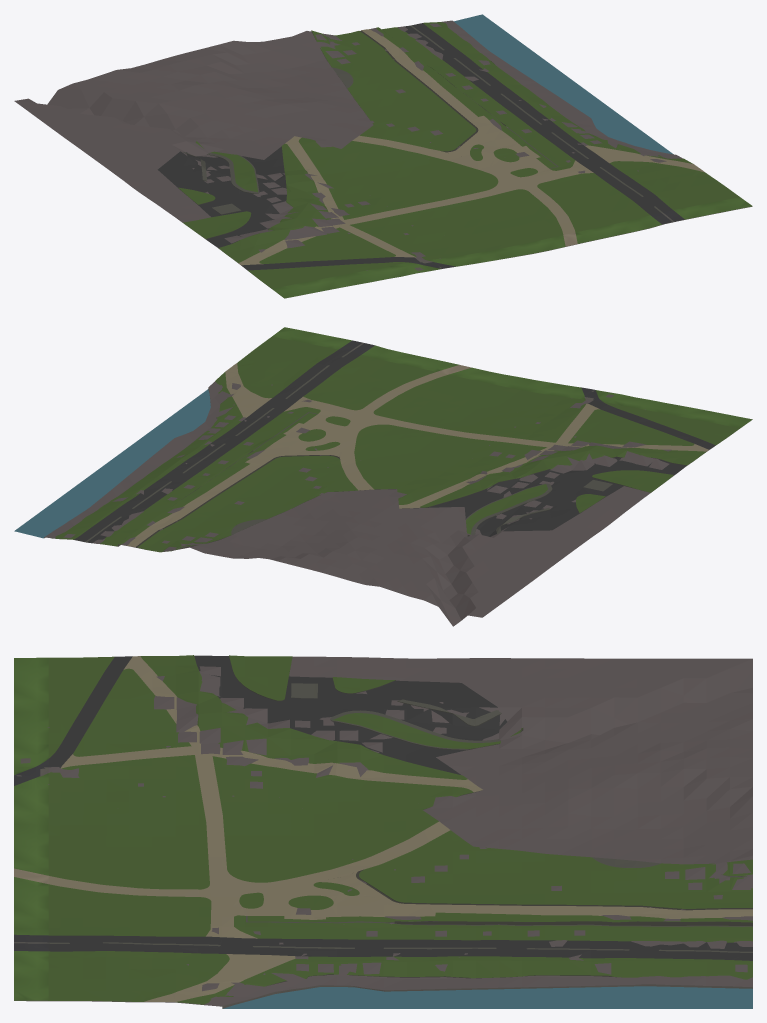
3 renders of one model, top to bottom at view 1: azimuth 30°, elevation 25°; view 2: azimuth 150°, elevation 25°; view 3: azimuth 270°, elevation 25°, orthographic. The views are drawn at different scales.
Parts seen in each view (by area): view 1: c_m10_m10; view 2: c_m10_m10; view 3: c_m10_m10, append:c_m10_m10.
Part boxes in pixels (x1=…): c_m10_m10: x1=14, y1=14, x2=752, y2=298; c_m10_m10: x1=14, y1=327, x2=752, y2=626; c_m10_m10: x1=14, y1=655, x2=752, y2=1008; append:c_m10_m10: x1=222, y1=984, x2=752, y2=1008.
Size of the model in its own units: 128 by 8.97 by 128.
